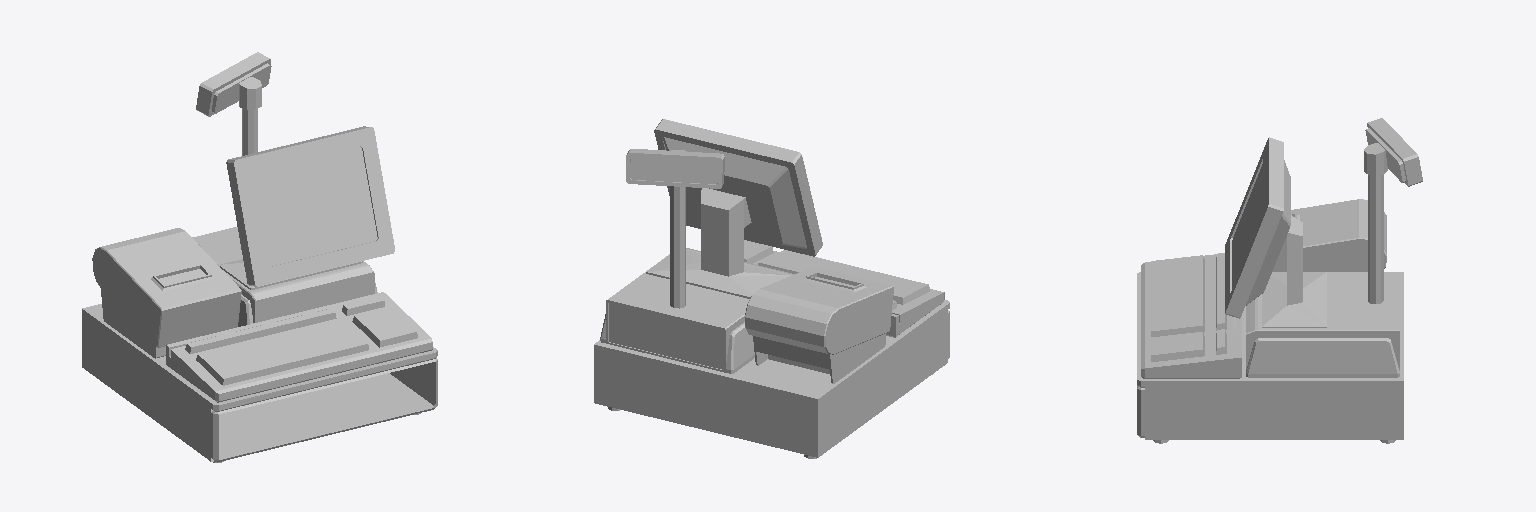
File: cajaRegistradora.obj
3 renders of one model, left to right at view 1: azimuth 30°, elevation 25°; view 2: azimuth 150°, elevation 25°; view 3: azimuth 270°, elevation 25°, orthographic.
Visible parts, largest first — view 1: cajaRegistradora:cajaRegistradora, cajaRegistradora:caja; view 2: cajaRegistradora:cajaRegistradora, cajaRegistradora:caja; view 3: cajaRegistradora:cajaRegistradora, cajaRegistradora:caja.
Boxes of the visible parts, x1=… form: cajaRegistradora:cajaRegistradora: x1=92, y1=52, x2=432, y2=462; cajaRegistradora:caja: x1=82, y1=304, x2=437, y2=462; cajaRegistradora:cajaRegistradora: x1=600, y1=119, x2=944, y2=458; cajaRegistradora:caja: x1=594, y1=300, x2=949, y2=457; cajaRegistradora:cajaRegistradora: x1=1141, y1=118, x2=1422, y2=443; cajaRegistradora:caja: x1=1137, y1=272, x2=1403, y2=439.
Bounding box in the file's own units: 1.1 × 1.28 × 1.21.